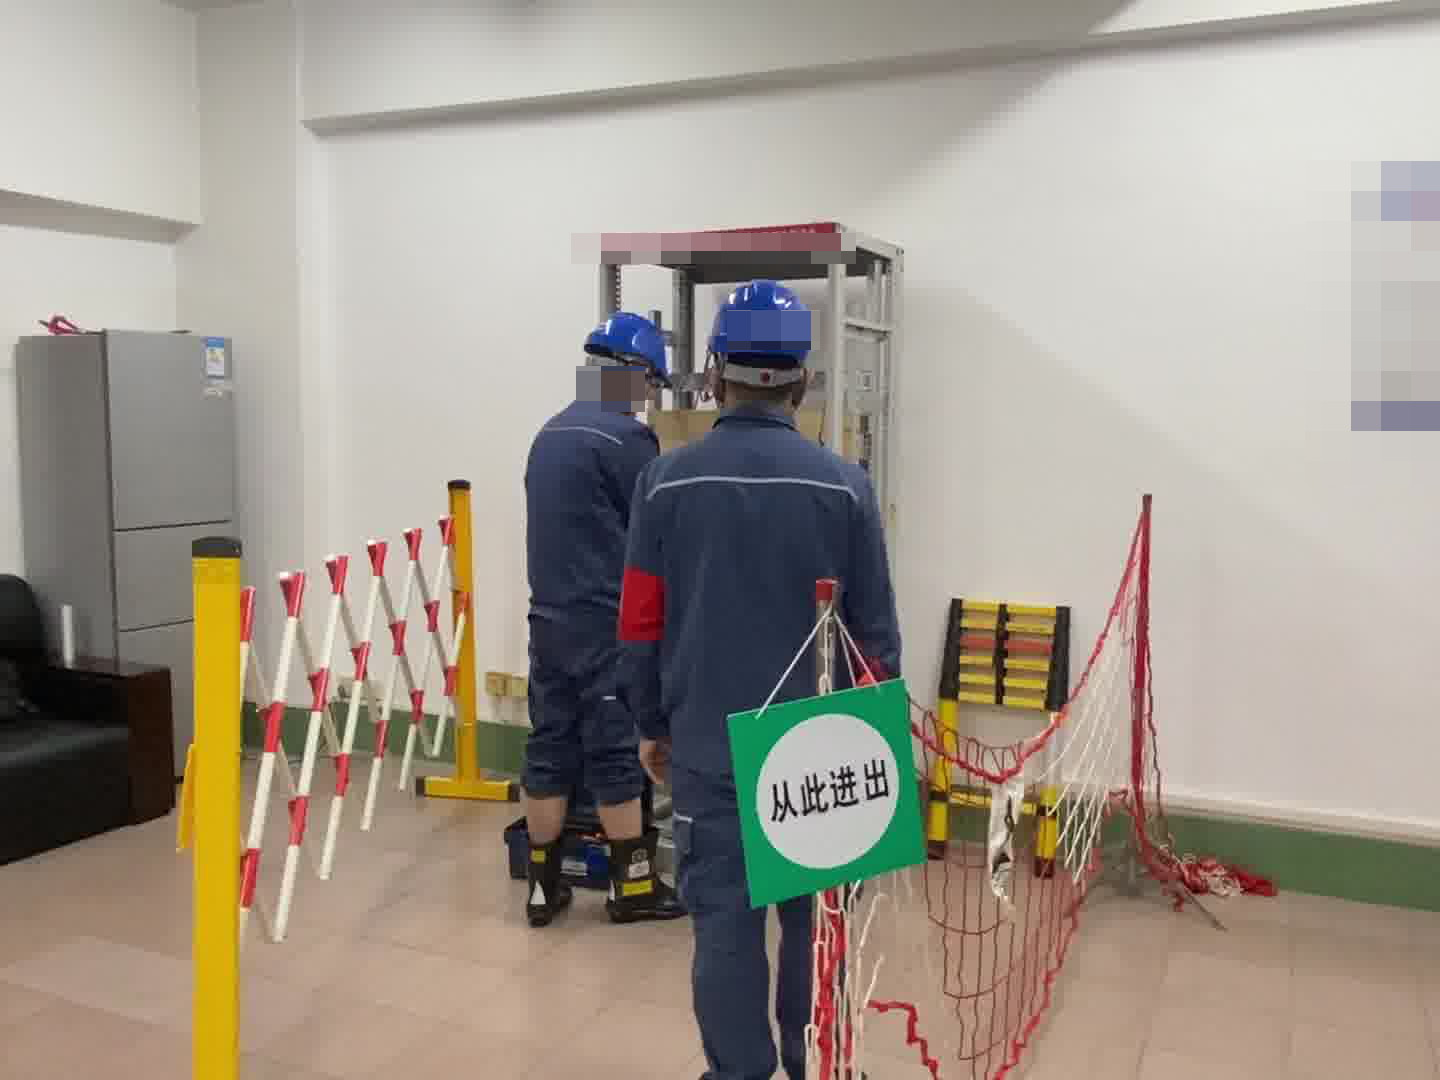badge: (616, 566, 669, 645)
downsuit: (666, 737, 815, 1080), (519, 627, 645, 803)
halt: (705, 278, 816, 412), (581, 311, 670, 408)
hand: (635, 734, 670, 785)
inear: (617, 354, 644, 400)
intosign: (726, 689, 928, 895)
person: (617, 276, 896, 1080), (518, 307, 675, 923)
shoe: (602, 837, 674, 921), (523, 840, 567, 919)
upsuit: (635, 413, 893, 711), (525, 395, 647, 622)
wrongbottom: (515, 753, 570, 840), (595, 756, 644, 841)
